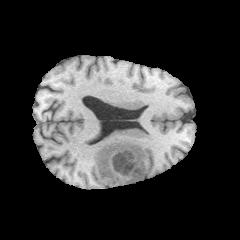glioma: (93, 141, 147, 185)
